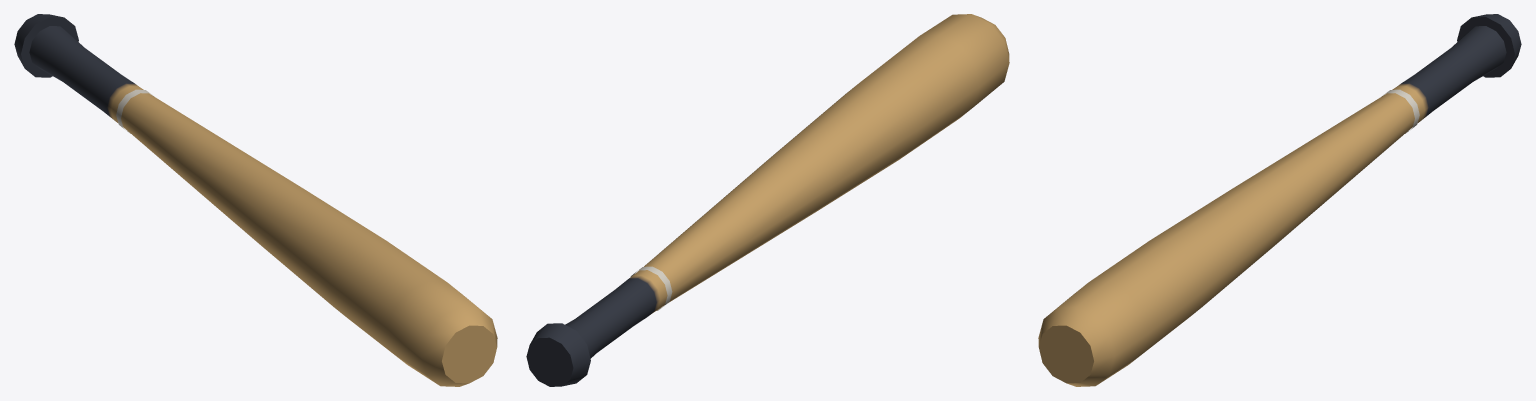
Rendered from item_bat.glb.
3 renders of one model, left to right at view 1: azimuth 30°, elevation 25°; view 2: azimuth 150°, elevation 25°; view 3: azimuth 330°, elevation 25°, orthographic.
Visible parts, largest first — view 1: bat; view 2: bat; view 3: bat.
Boxes of the visible parts, box(x1,y1,x2,y2) form: bat: box(14, 14, 497, 386); bat: box(526, 14, 1009, 386); bat: box(1038, 14, 1521, 386).
Bounding box in the file's own units: 0.116 × 0.116 × 1.08.
